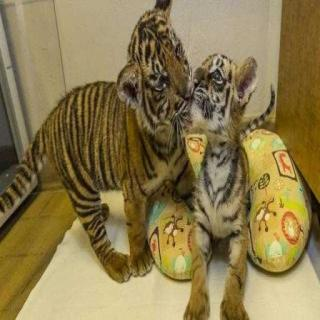Tiger: (18, 0, 195, 284), (188, 45, 258, 320)
